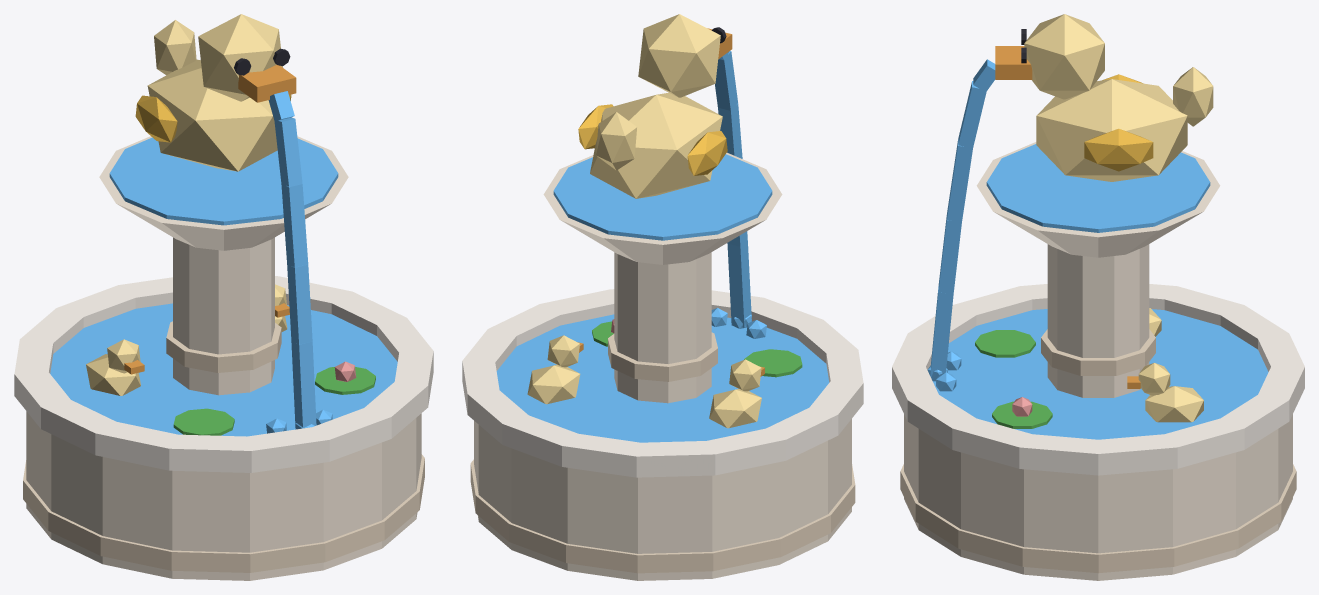
Rendered from CatCafe_Decor_DuckFountain.glb.
3 views of the same model, side by side, from view 1: azimuth 30°, elevation 25°; view 2: azimuth 150°, elevation 25°; view 3: azimuth 270°, elevation 25° (orthographic). The views are drawn at different scales.
Visible parts, largest first — view 1: CatCafe_Decor_DuckFountain, CatCafe_Decor_DuckFountain_Water; view 2: CatCafe_Decor_DuckFountain, CatCafe_Decor_DuckFountain_Water; view 3: CatCafe_Decor_DuckFountain, CatCafe_Decor_DuckFountain_Water.
Boxes of the visible parts, left/top/right/bottom form: CatCafe_Decor_DuckFountain: left=14, top=14, right=433, bottom=580; CatCafe_Decor_DuckFountain_Water: left=50, top=91, right=397, bottom=436; CatCafe_Decor_DuckFountain: left=462, top=14, right=863, bottom=580; CatCafe_Decor_DuckFountain_Water: left=496, top=51, right=829, bottom=442; CatCafe_Decor_DuckFountain: left=892, top=14, right=1304, bottom=580; CatCafe_Decor_DuckFountain_Water: left=927, top=59, right=1268, bottom=439.
Size of the model in its own units: 2.44 by 3.16 by 2.44.
1 material, 1 textured.
